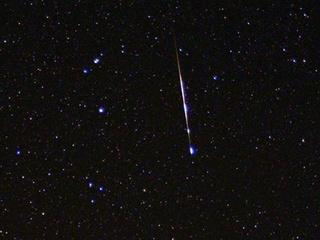meteorite: (169, 47, 199, 163)
